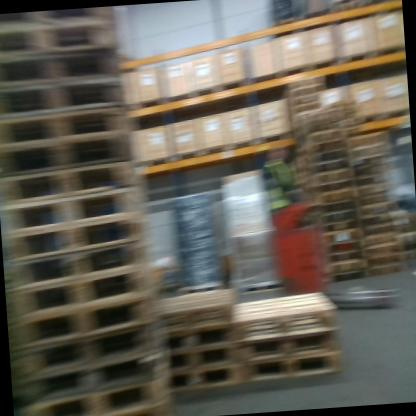pallet: (17, 354, 165, 413), (17, 298, 154, 361), (10, 265, 147, 326), (19, 319, 159, 376), (5, 214, 140, 273), (8, 242, 146, 299), (4, 190, 141, 247), (0, 161, 134, 215), (0, 141, 125, 192), (227, 288, 340, 342), (17, 376, 168, 416), (3, 107, 133, 150), (0, 81, 124, 123), (0, 50, 118, 90), (238, 348, 343, 386), (0, 22, 109, 54), (229, 330, 339, 360), (164, 362, 244, 391), (165, 324, 237, 351), (163, 345, 240, 370), (328, 0, 364, 25)
pallet_truck: (251, 191, 407, 321)
